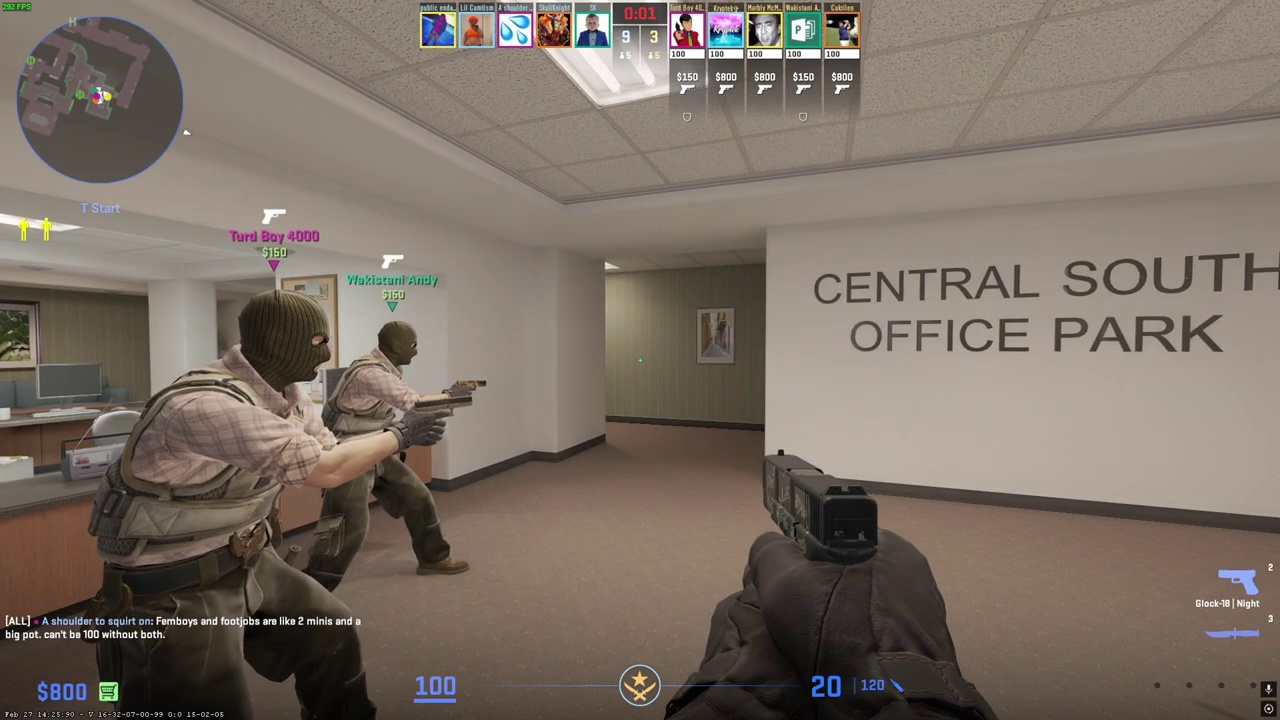Terrorist: (87, 289, 348, 720), (314, 320, 459, 593)
